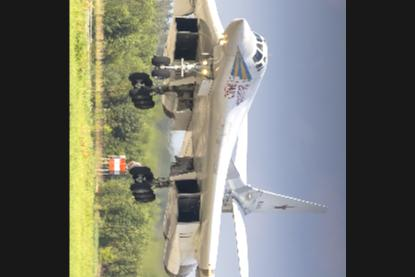Su34: (128, 0, 328, 275)
